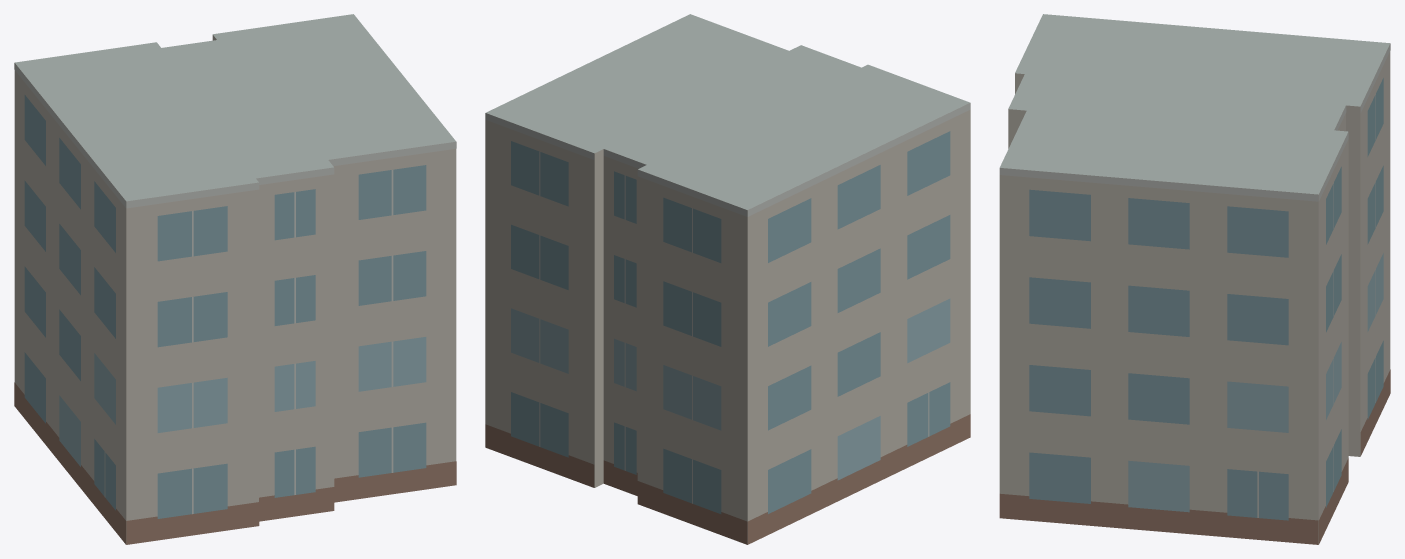
Rendered from survey-upis-32663275.glb.
3 views of the same model, side by side, from view 1: azimuth 30°, elevation 25°; view 2: azimuth 150°, elevation 25°; view 3: azimuth 270°, elevation 25° (orthographic). The views are drawn at different scales.
Parts seen in each view (by area): view 1: survey-upis-32663275.tmp; view 2: survey-upis-32663275.tmp; view 3: survey-upis-32663275.tmp.
Part boxes in pixels (x1,y1,x2,y2): survey-upis-32663275.tmp: (14,14,456,544); survey-upis-32663275.tmp: (485,14,970,544); survey-upis-32663275.tmp: (999,14,1390,544).
Bounding box in the file's own units: 13.16 × 11.9 × 12.04.
